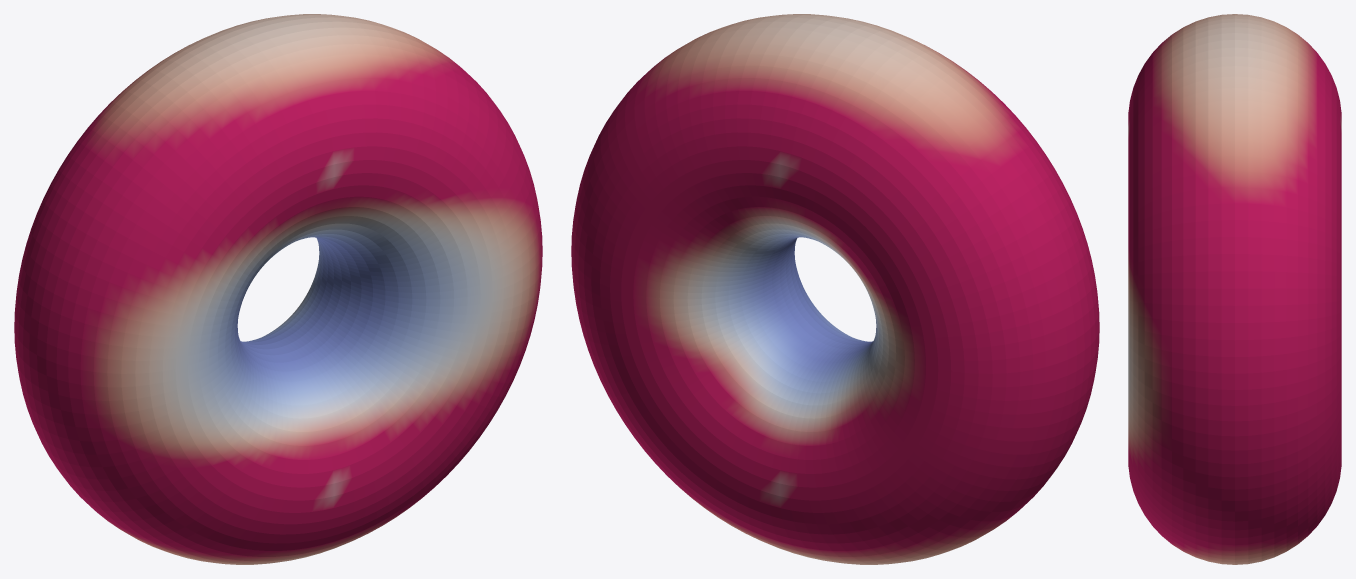
3 views of the same model, side by side, from view 1: azimuth 30°, elevation 25°; view 2: azimuth 150°, elevation 25°; view 3: azimuth 270°, elevation 25° (orthographic). The views are drawn at different scales.
Parts seen in each view (by area): view 1: world; view 2: world; view 3: world.
Boxes of the visible parts, box(x1,y1,x2,y2) form: world: box(14, 14, 542, 564); world: box(571, 14, 1099, 564); world: box(1128, 14, 1341, 564).
Size of the model in its own units: 25.07 by 25.07 by 9.71.
